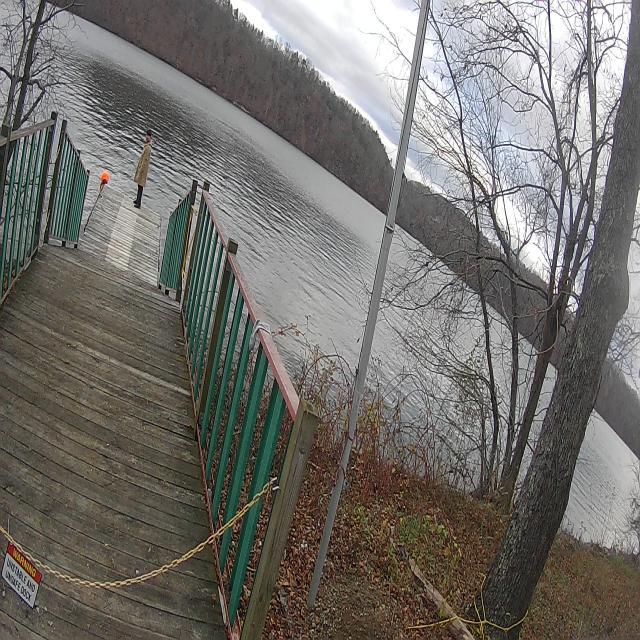Buoy: (100, 170, 110, 188)
